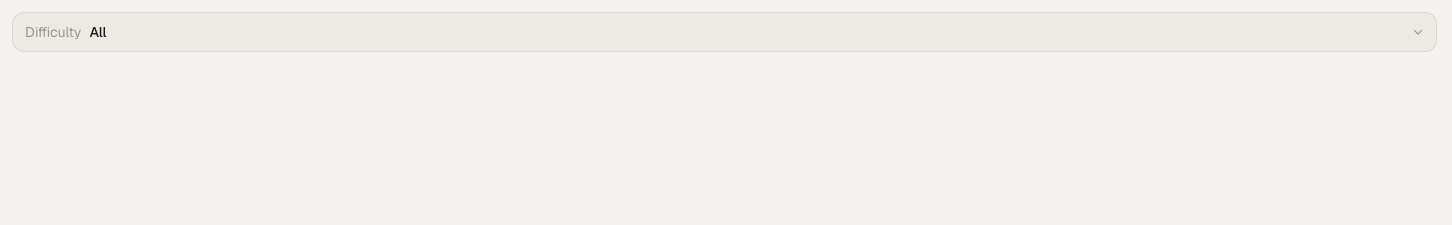
it: Select › opens on click and reports the clicked option
Click the button with aria-label "Difficulty: All" at (53, 32), box [12, 12, 1437, 52]
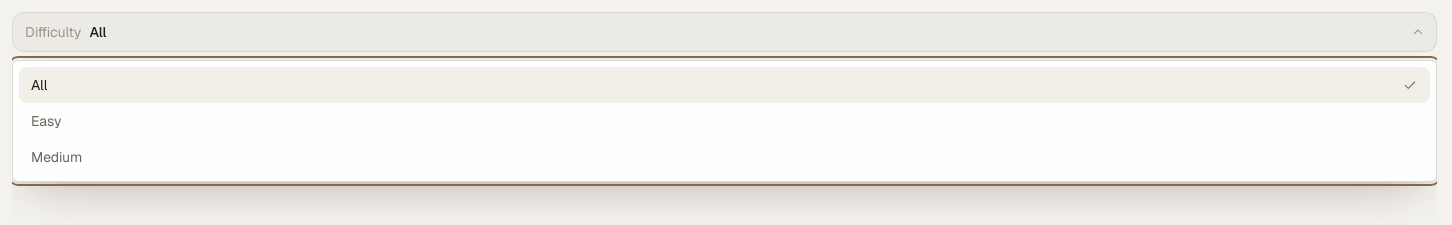
Click the option "Medium" at (57, 157), box [31, 148, 82, 166]
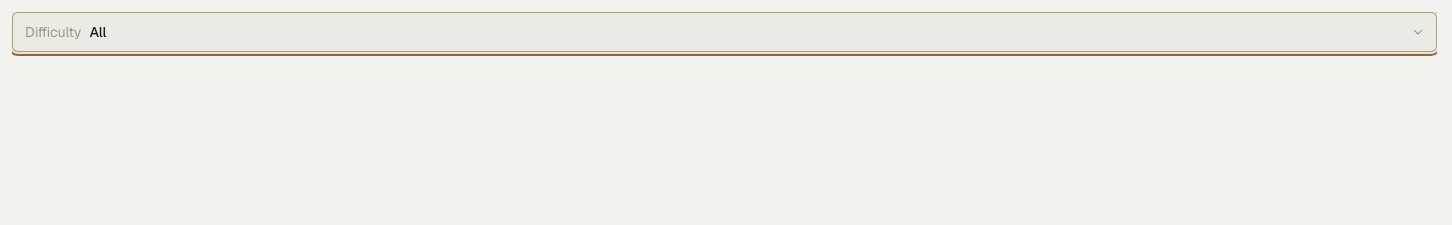
Expected: the list is gone
